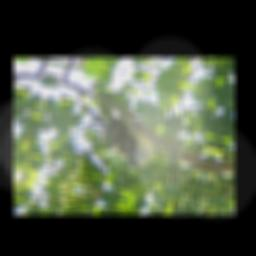Cuckoo: (54, 100, 169, 172)
